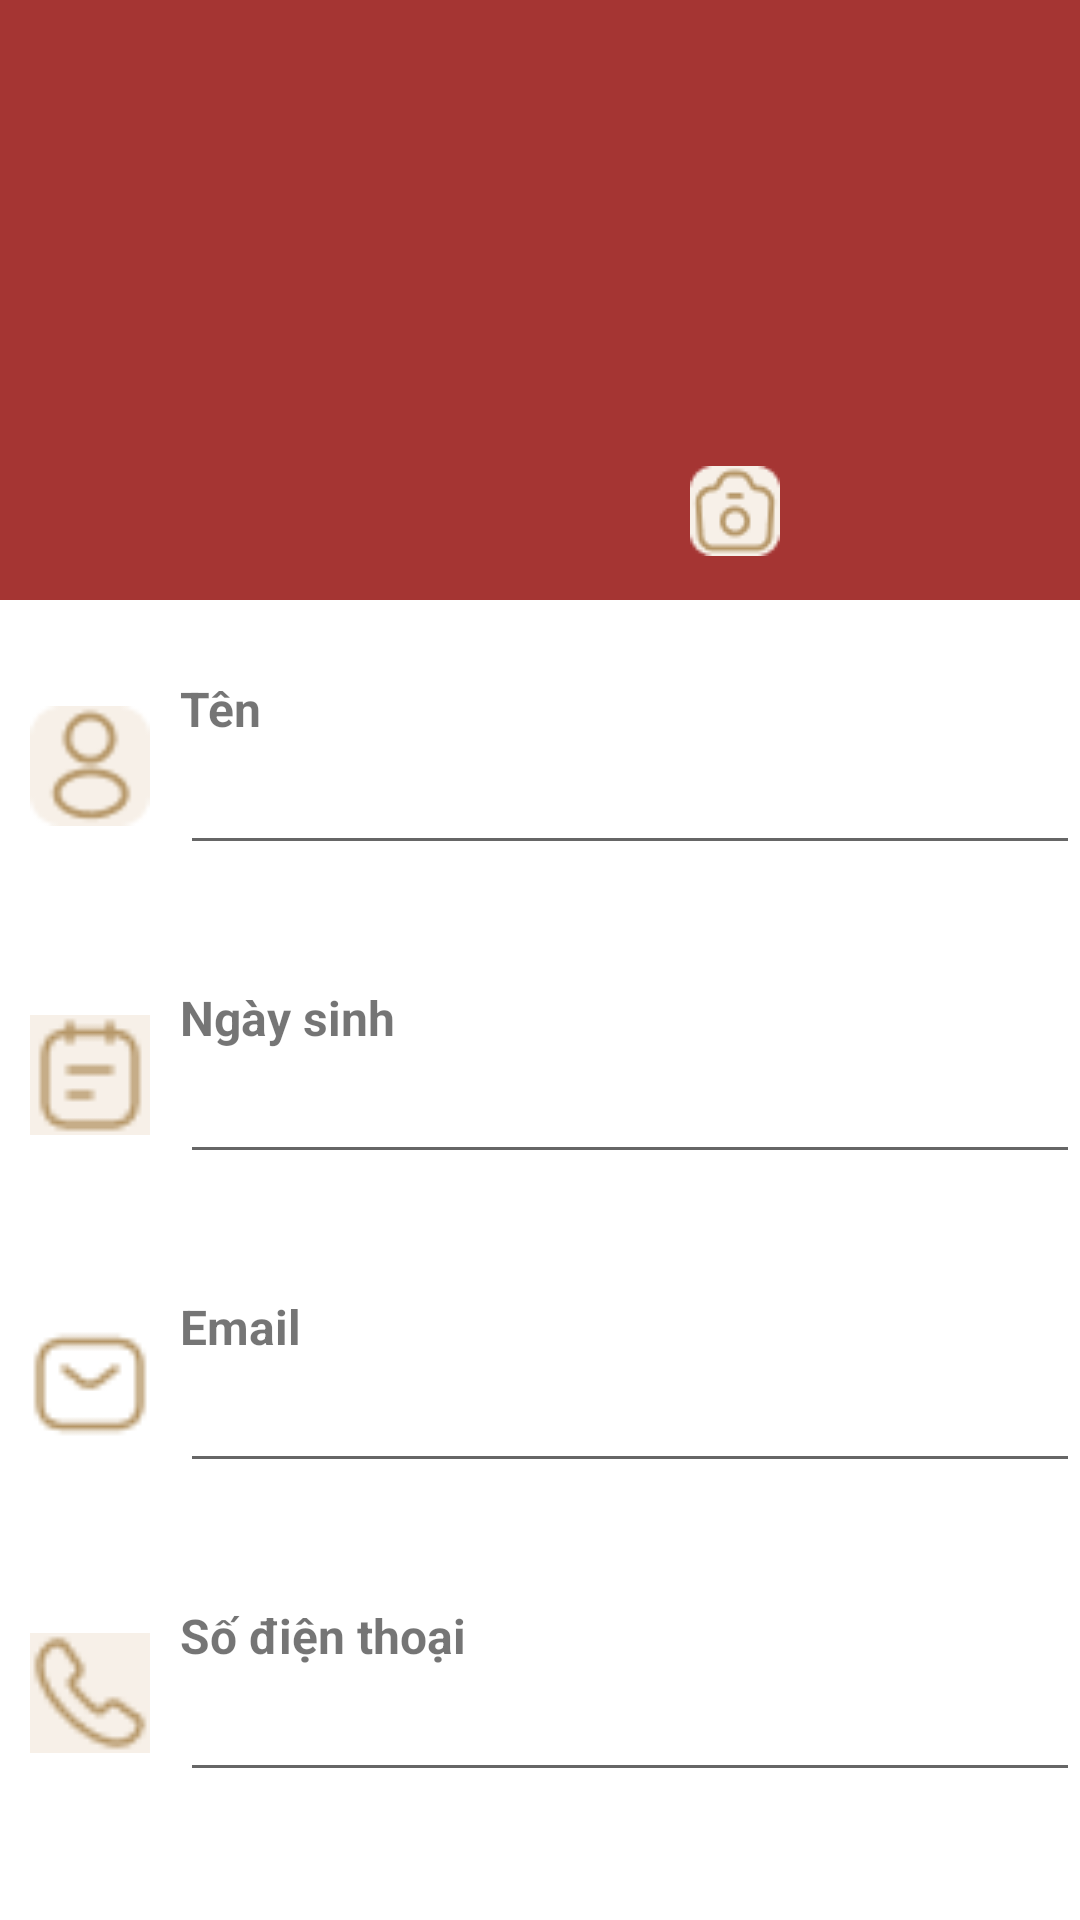

Locate icon controls on the screen. Image size 1080*1920, boxes as (x1, y1, x2, y2).
call: (30, 1633, 150, 1753)
camera: (690, 466, 780, 556)
notetext: (38, 1018, 142, 1132)
